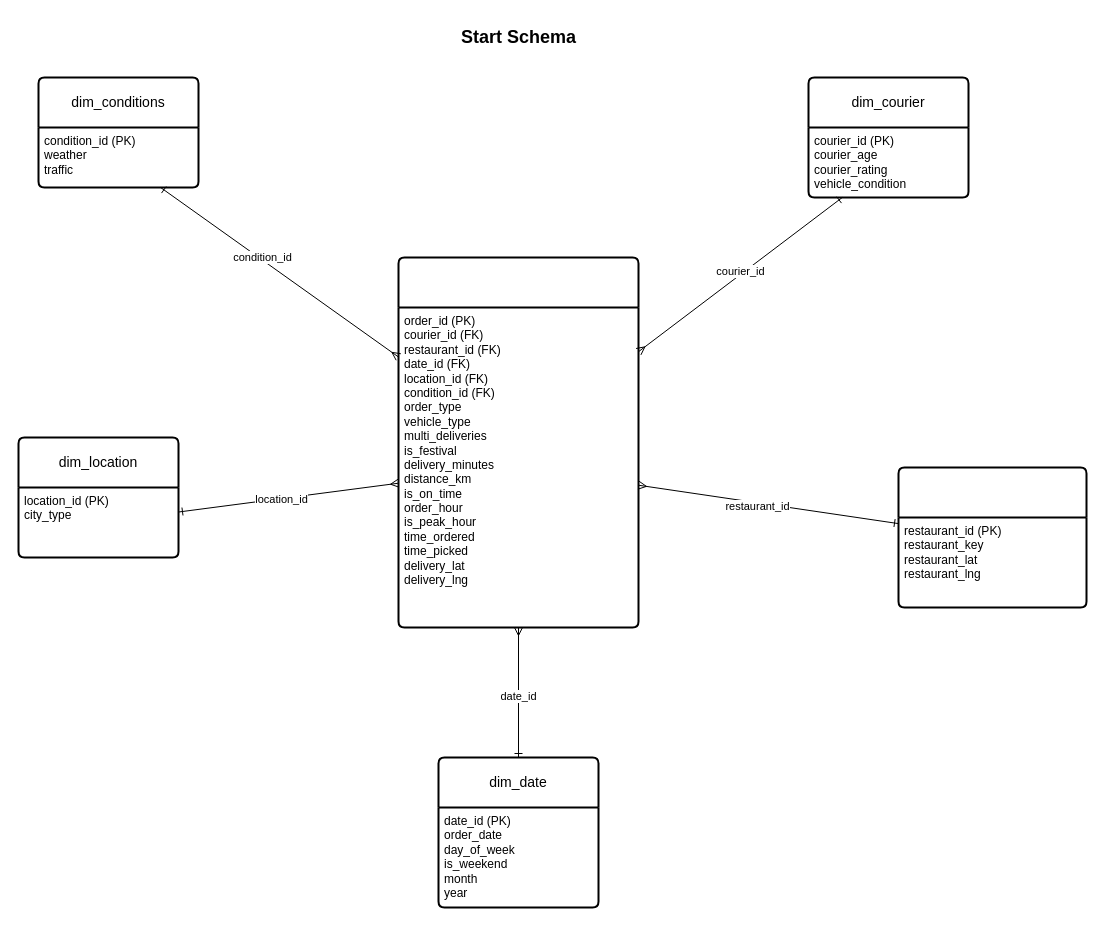
The diagram is 1104 pixels wide and 925 high, and some of its shapes have lost their labels. Each missing label, with the box of its shape:
dim_restaurant: (897, 466, 1087, 608)
fact_orders: (397, 256, 639, 628)
